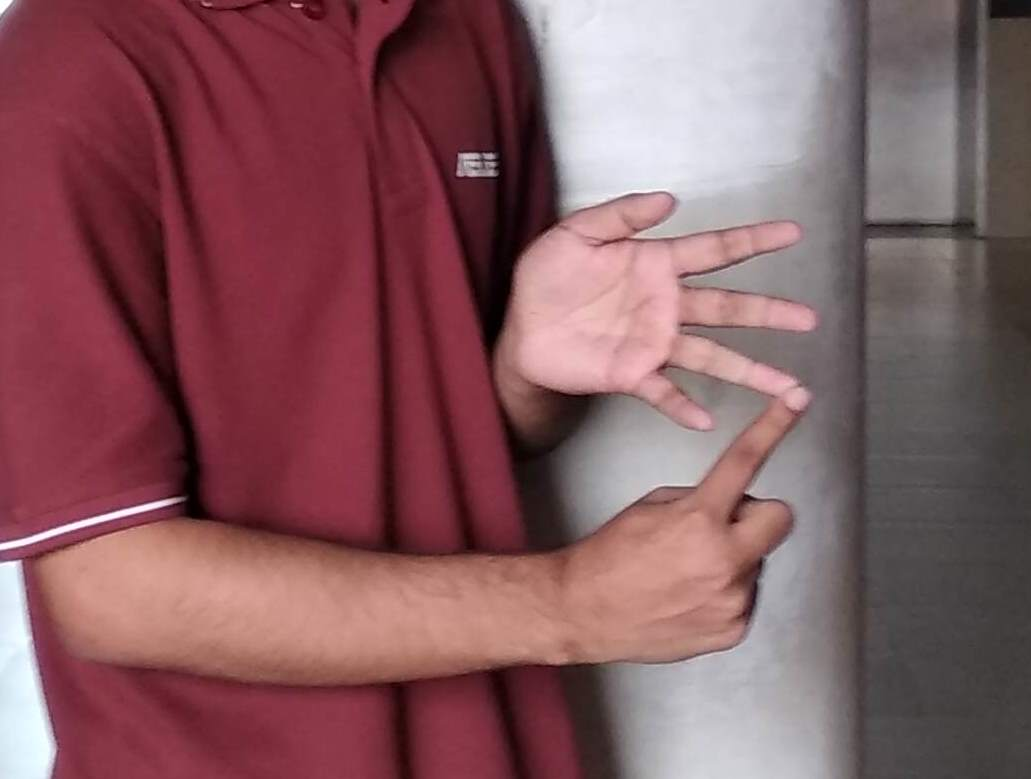e: (577, 197, 810, 585)
